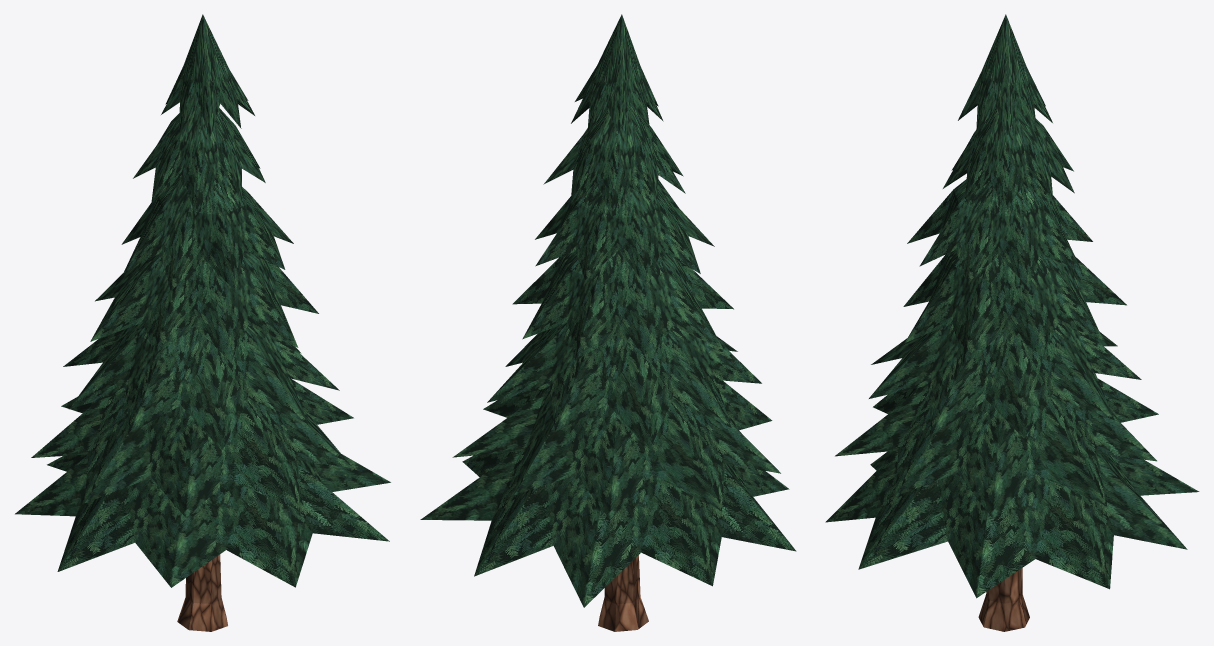
The model's file is pine.glb.
3 renders of one model, left to right at view 1: azimuth 30°, elevation 25°; view 2: azimuth 150°, elevation 25°; view 3: azimuth 270°, elevation 25°, orthographic.
Visible parts, largest first — view 1: Pine; view 2: Pine; view 3: Pine.
Part boxes in pixels (box(x1,y1,x2,y2)): Pine: box(15, 14, 390, 631); Pine: box(420, 14, 796, 631); Pine: box(825, 14, 1199, 631).
Bounding box in the file's own units: 4.95 × 8.61 × 4.82.
Materials: 2 (2 with a texture image).
